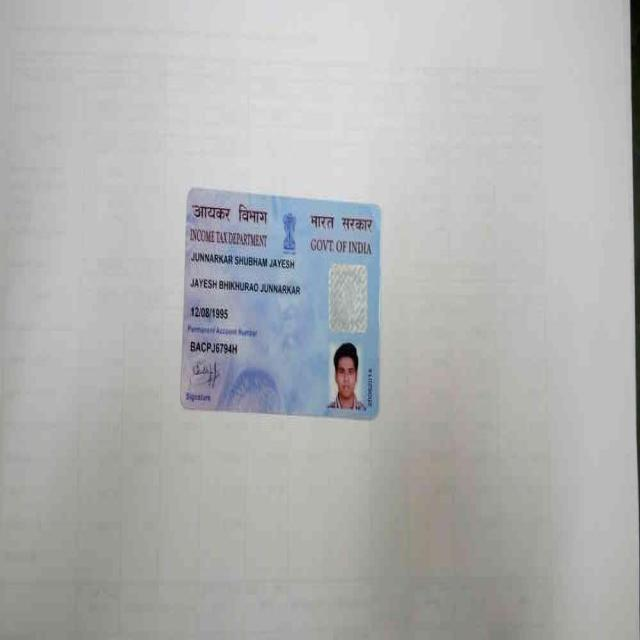pan_card: (180, 190, 381, 420)
